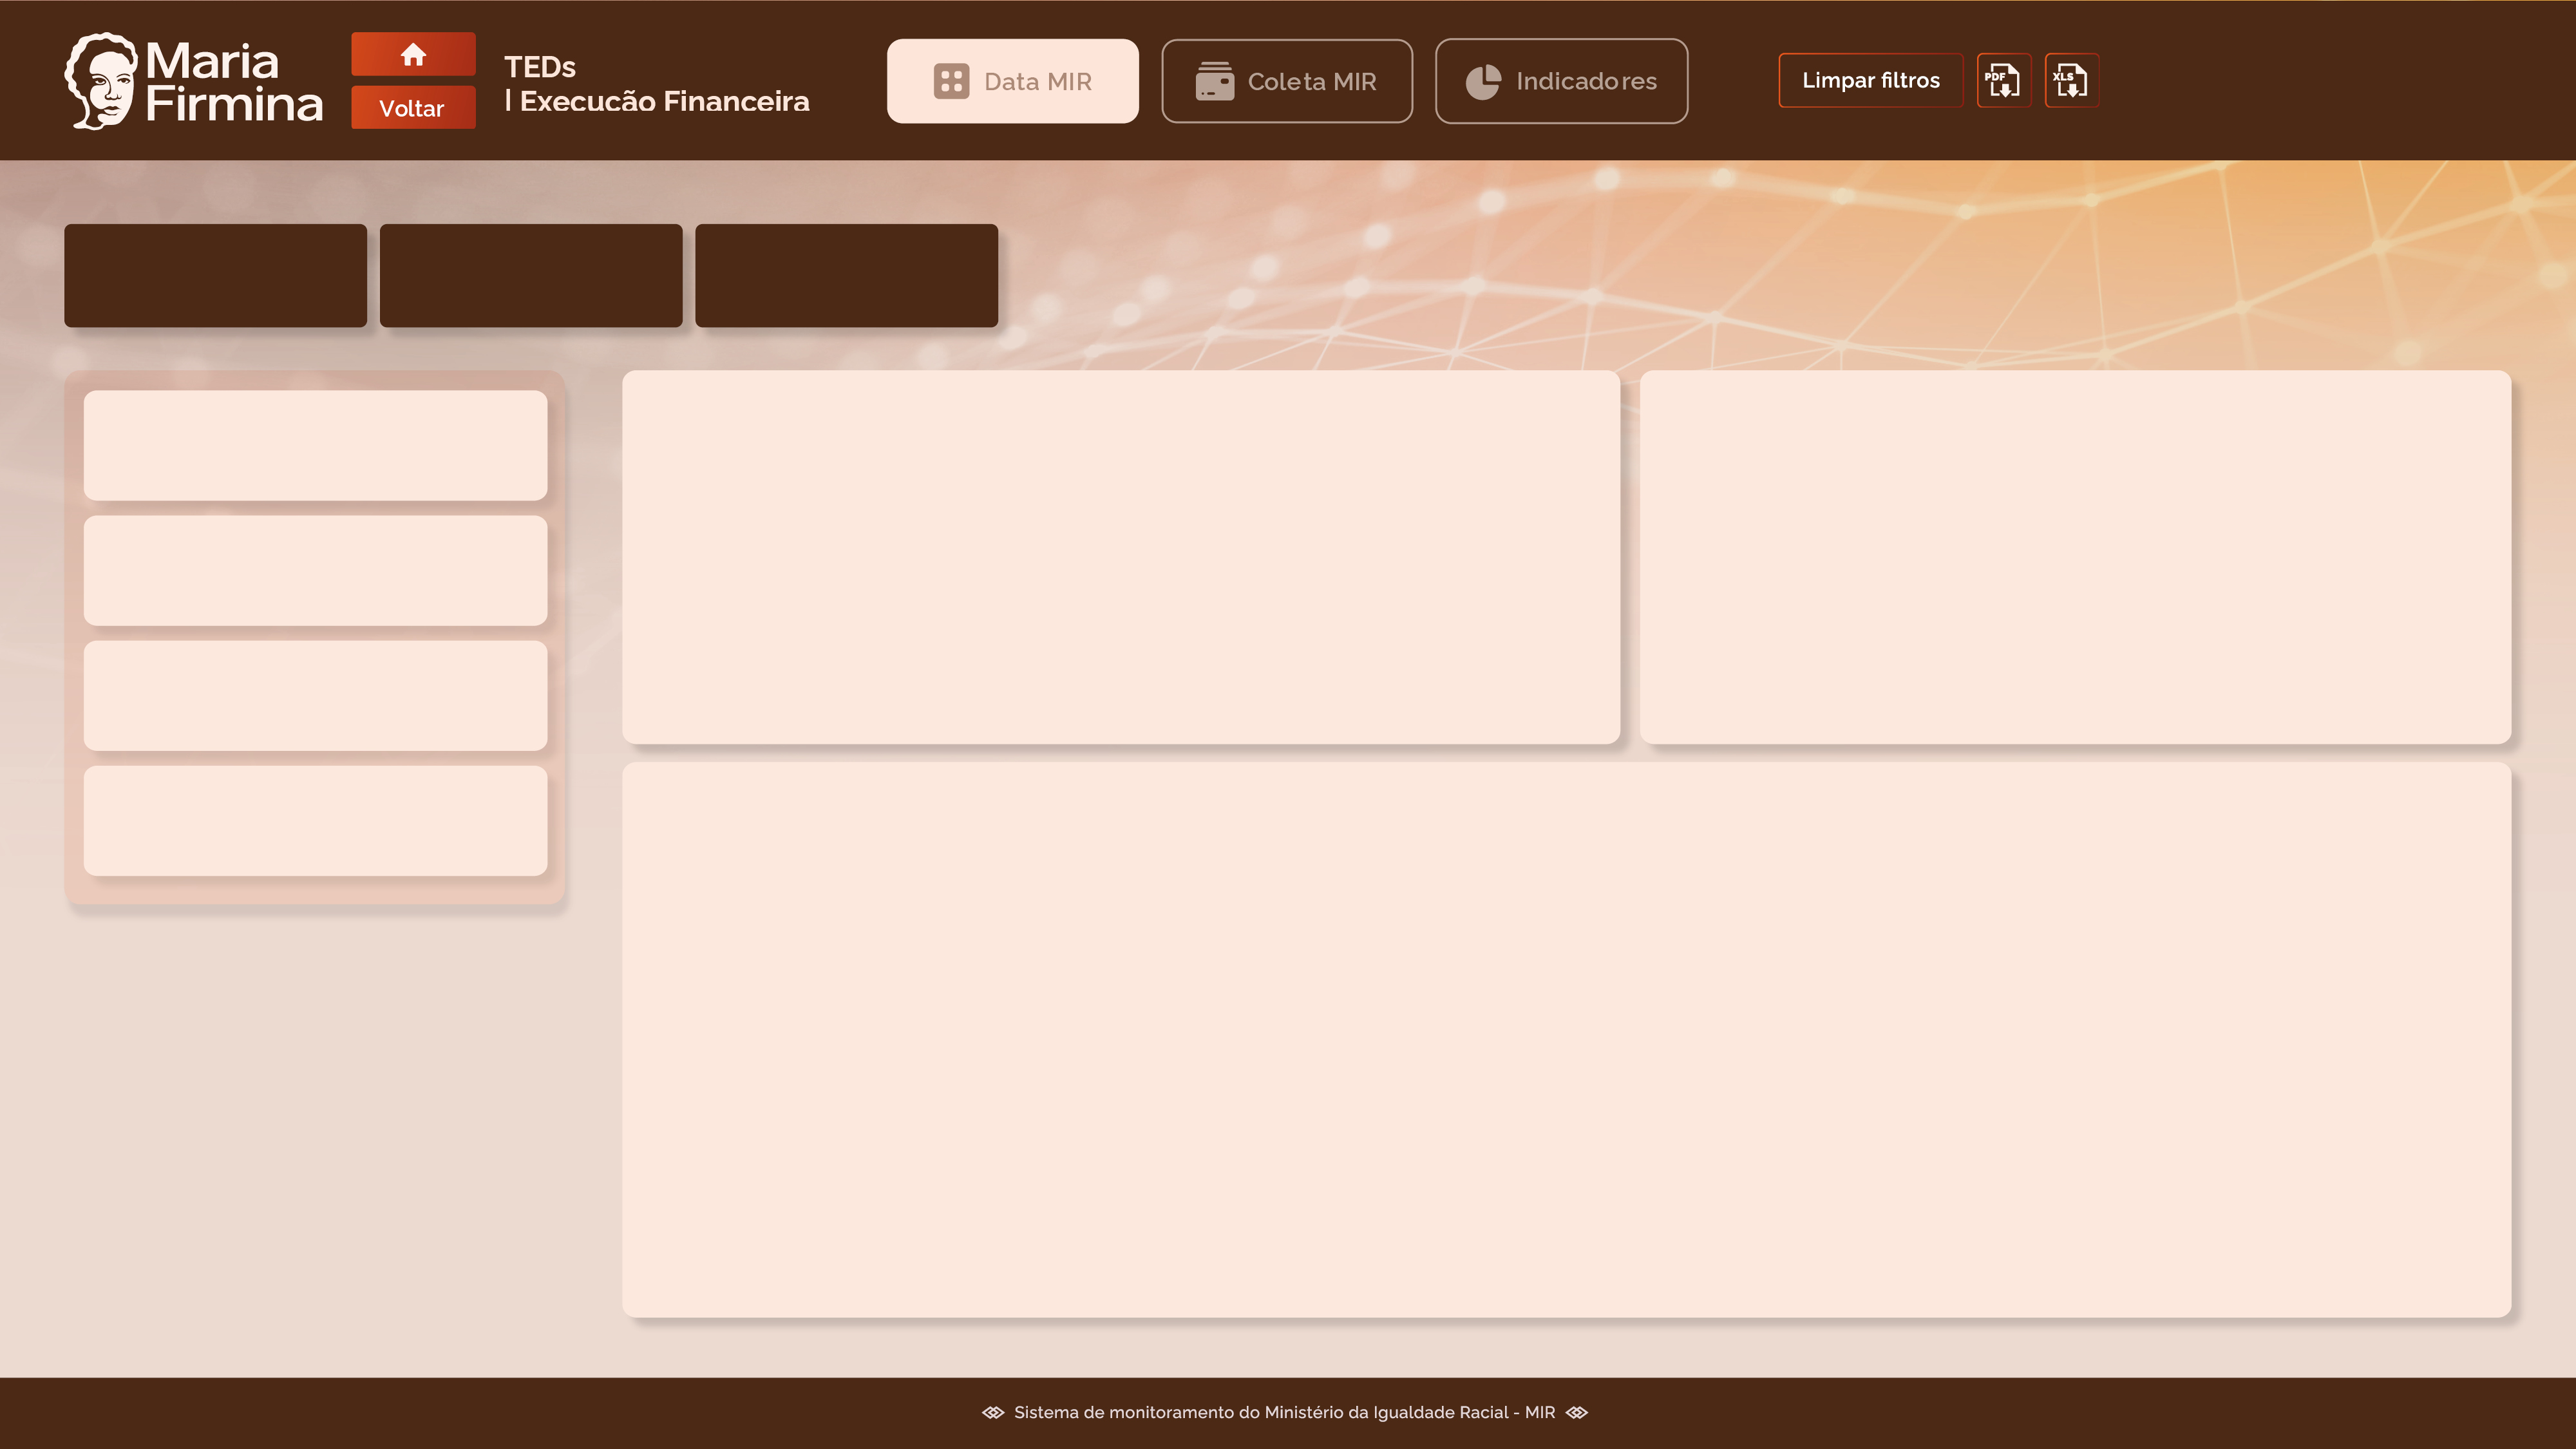

The page's visual inventory and layout, read from the dashboard file:
{"tool":"powerbi","page":{"name":"TEDs Execução Financeira","canvas":[1920,1080],"ordinal":15},"visuals":[{"type":"slicer","fields":{"Values":["ted_empenhos_plano_acao.ne_ccor_ano_emissao"]},"box":[64.3,292.9,345.7,80],"z":0},{"type":"slicer","fields":{"Values":["ted_empenhos_plano_acao.ne_ccor_favorecido_descricao"]},"box":[64.3,382.9,344.3,77.1],"z":1000},{"type":"slicer","fields":{"Values":["ted_empenhos_plano_acao.natureza_despesa_descricao"]},"box":[64.3,572.9,344.3,77.1],"z":2000},{"type":"cardVisual","fields":{"Data":["_medidas.Valor Empenhado TED Execucao"]},"box":[45.7,167.8,225.7,71.4],"z":3000},{"type":"cardVisual","fields":{"Data":["_medidas.Valor Liquidado TED Empenhado"]},"box":[285.7,167.8,220,71.4],"z":4000},{"type":"cardVisual","fields":{"Data":["_medidas.Valor Pago TED Empenhado"]},"box":[522.9,169.2,215.7,70],"z":5000},{"type":"barChart","title":"TOP 5 Favorecidos","fields":{"Category":["ted_empenhos_plano_acao.ne_ccor_favorecido_descricao"],"Y":["_medidas.Valor Empenhado TED Execucao"]},"box":[467.1,282.9,735.7,257.1],"z":6000},{"type":"clusteredColumnChart","title":"Valor Empenhado e Pago por Natureza Despesa","fields":{"Category":["ted_empenhos_plano_acao.natureza_despesa_descricao"],"Y":["_medidas.Valor Empenhado TED Execucao","_medidas.Valor Pago TED Empenhado"]},"box":[1231.4,282.9,641.4,275.7],"z":7000},{"type":"tableEx","fields":{"Values":["ted_empenhos_plano_acao.ne_ccor_ano_emissao","ted_empenhos_plano_acao.num_transf","ted_empenhos_plano_acao.nc","ted_empenhos_plano_acao.natureza_despesa_descricao","ted_empenhos_plano_acao.fonte_recursos_detalhada_descricao","ted_empenhos_plano_acao.ne_ccor_favorecido_descricao","ted_empenhos_plano_acao.ne_ccor_descricao","Sum(ted_empenhos_plano_acao.despesas_empenhadas)","Sum(ted_empenhos_plano_acao.despesas_liquidadas)","Sum(ted_empenhos_plano_acao.despesas_pagas)","ted_empenhos_plano_acao.restos_a_pagar_inscritos","ted_empenhos_plano_acao.restos_a_pagar_pagos"]},"box":[467.1,574.3,1405.7,405.7],"z":8000},{"type":"slicer","fields":{"Values":["ted_empenhos_plano_acao.fonte_recursos_detalhada_descricao"]},"box":[62.9,484.3,345.7,67.1],"z":10000},{"type":"actionButton","box":[261.5,62,94.3,32.9],"z":11000},{"type":"actionButton","box":[261.7,22.8,92.2,33.3],"z":12000},{"type":"textbox","box":[1642.6,29.3,167.6,71.8],"z":13000},{"type":"actionButton","box":[1326.7,40.7,137.8,38.9],"z":14000},{"type":"image","box":[1820,42,53.3,37.8],"z":15000},{"type":"actionButton","box":[661.3,28.7,187.3,62.7],"z":16000},{"type":"actionButton","box":[866,28.7,187.3,62.7],"z":17000},{"type":"actionButton","box":[1069.3,30,187.3,62.7],"z":18000},{"type":"pageNavigator","box":[49.1,132.7,910.9,23.6],"z":19000}]}

Visuals, with their boxes on the page's 1920x1080 design canvas (x1, y1, x2, y2). These are canvas units, not pixel positions in the 2576x1449 screenshot, which may show the page scaled, cropped or inside an application window:
slicer - ted_empenhos_plano_acao.ne_ccor_ano_emissao: region(64, 293, 410, 373)
slicer - ted_empenhos_plano_acao.ne_ccor_favorecido_descricao: region(64, 383, 409, 460)
slicer - ted_empenhos_plano_acao.natureza_despesa_descricao: region(64, 573, 409, 650)
cardVisual - _medidas.Valor Empenhado TED Execucao: region(46, 168, 271, 239)
cardVisual - _medidas.Valor Liquidado TED Empenhado: region(286, 168, 506, 239)
cardVisual - _medidas.Valor Pago TED Empenhado: region(523, 169, 739, 239)
"TOP 5 Favorecidos" barChart: region(467, 283, 1203, 540)
"Valor Empenhado e Pago por Natureza Despesa" clusteredColumnChart: region(1231, 283, 1873, 559)
tableEx - ted_empenhos_plano_acao.ne_ccor_ano_emissao x ted_empenhos_plano_acao.num_transf: region(467, 574, 1873, 980)
slicer - ted_empenhos_plano_acao.fonte_recursos_detalhada_descricao: region(63, 484, 409, 551)
actionButton: region(262, 62, 356, 95)
actionButton: region(262, 23, 354, 56)
textbox: region(1643, 29, 1810, 101)
actionButton: region(1327, 41, 1464, 80)
image: region(1820, 42, 1873, 80)
actionButton: region(661, 29, 849, 91)
actionButton: region(866, 29, 1053, 91)
actionButton: region(1069, 30, 1257, 93)
pageNavigator: region(49, 133, 960, 156)
